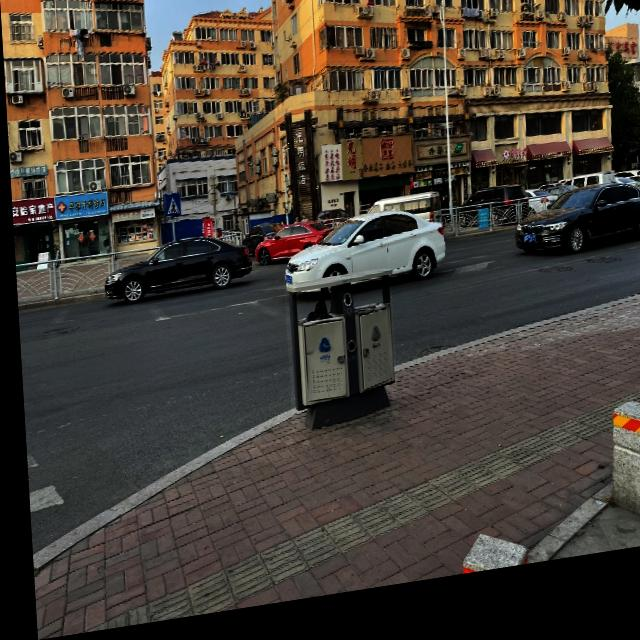overflow: (280, 279, 393, 441)
